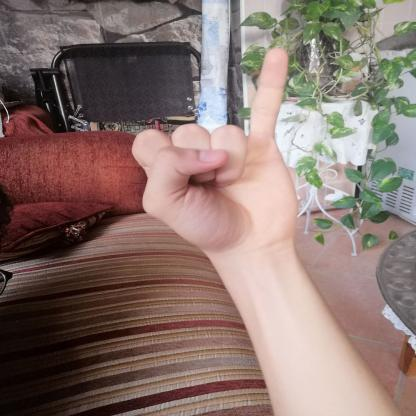MEEM: (115, 35, 320, 271)
